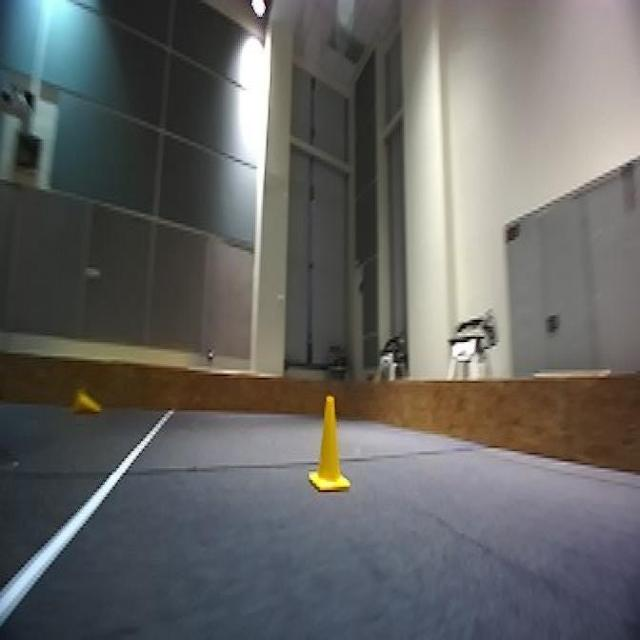frc_cone: (306, 393, 348, 497), (68, 388, 104, 417)
